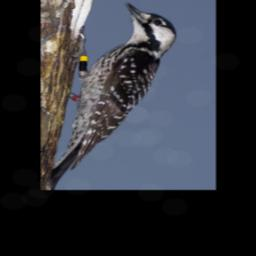Woodpecker: (48, 1, 178, 189)
